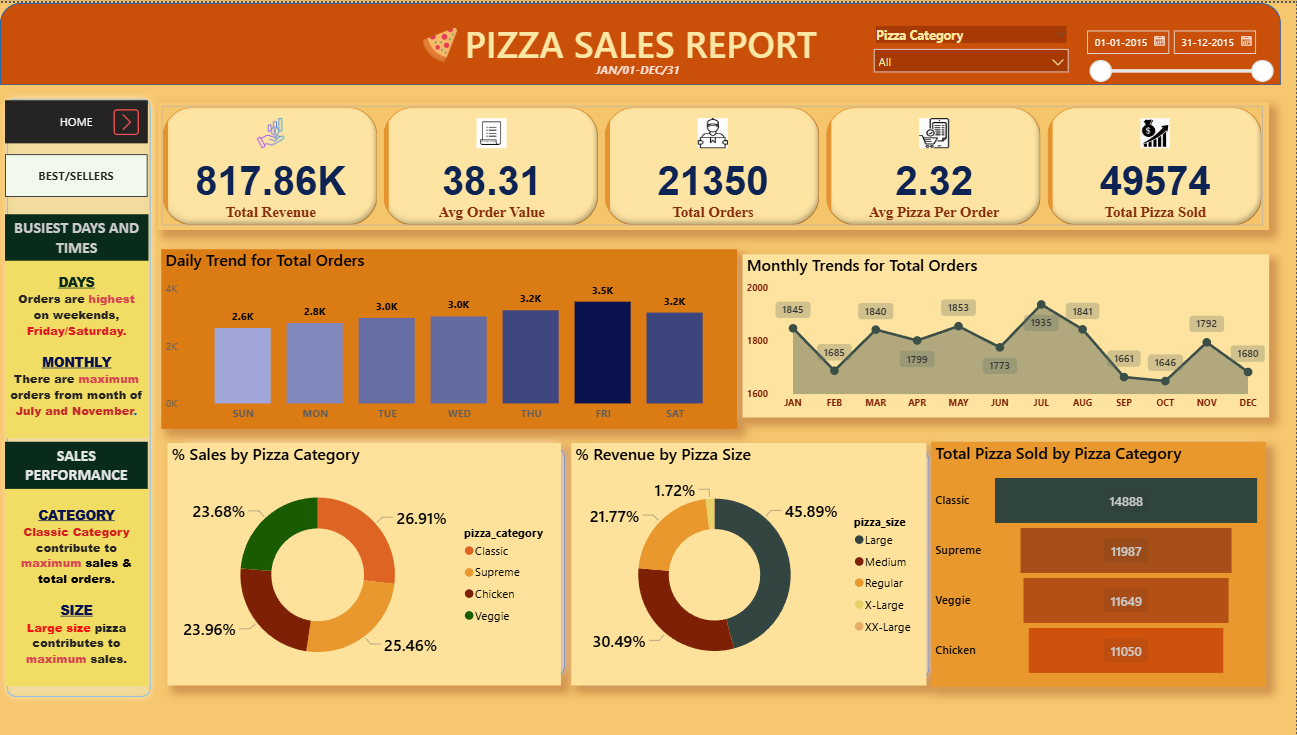

What the dashboard file says about the page in this screenshot:
{"tool":"powerbi","page":{"name":"HOME","canvas":[1519,862],"ordinal":0},"visuals":[{"type":"shape","box":[0,0,1519.6,96.6],"z":0},{"type":"shape","box":[0,103.9,207.9,736.4],"z":1000},{"type":"cardVisual","fields":{"Data":["pizza_sales.Total_Revenue","pizza_sales.Avg_Order_Value","pizza_sales.Total_Orders","pizza_sales.Avg_Pizza_Per_Order","pizza_sales.Total_pizza_sold"]},"box":[218.1,117.1,1301.5,149.3],"z":2000},{"type":"textbox","box":[346.4,12.6,807.4,102],"z":3000},{"type":"textbox","box":[692.9,64.3,114.5,32.1],"z":4000},{"type":"image","box":[480.5,23.7,69.8,51.7],"z":5000},{"type":"shape","box":[247.4,289.9,612,194.7],"z":6000},{"type":"columnChart","title":"Daily Trend for Total Orders","fields":{"Category":["pizza_sales.Order Day"],"Y":["pizza_sales.Total_Orders"]},"box":[221.1,294.3,661.7,246],"z":7000},{"type":"areaChart","title":"Monthly Trends for Total Orders","fields":{"Category":["pizza_sales.Order Month"],"Y":["pizza_sales.Total_Orders"]},"box":[901.8,295.7,617.8,244.5],"z":9000},{"type":"shape","box":[693.9,557.8,415.8,282.6],"z":10000},{"type":"shape","box":[1127.3,556.3,392.4,291.3],"z":12000},{"type":"shape","box":[207.9,557.8,450.9,282.6],"z":13000},{"type":"donutChart","title":"% Sales by Pizza Category","fields":{"Category":["pizza_sales.pizza_category"],"Y":["pizza_sales.Total_Revenue"]},"box":[207.9,556.3,461.2,284],"z":14000},{"type":"donutChart","title":"% Revenue by Pizza Size","fields":{"Category":["pizza_sales.pizza_size"],"Y":["pizza_sales.Total_Revenue"]},"box":[692.5,556.3,415.8,284],"z":15000},{"type":"funnel","title":"Total Pizza Sold by Pizza Category","fields":{"Category":["pizza_sales.pizza_category"],"Y":["pizza_sales.Total_pizza_sold"]},"box":[1127.3,556.3,392.4,286.9],"z":16000},{"type":"textbox","box":[4.4,326.5,193.2,213.7],"z":17000},{"type":"textbox","box":[4.4,270.8,193.2,55.6],"z":18000},{"type":"textbox","box":[5.9,609,191.8,231.3],"z":19000},{"type":"slicer","fields":{"Values":["pizza_sales.pizza_category"]},"box":[1030.7,22,248.9,68.8],"z":20000},{"type":"slicer","fields":{"Values":["pizza_sales.order_date"]},"box":[1281,22,238.6,84.9],"z":21000},{"type":"pageNavigator","box":[5.9,106.9,191.8,76.1],"z":22000},{"type":"pageNavigator","box":[5.9,191.8,191.8,74.7],"z":23000},{"type":"image","box":[143.5,115.7,54.2,60],"z":24000},{"type":"textbox","box":[5.9,554.9,191.8,54.2],"z":25500}]}

Visuals, with their boxes in screenshot pixels (x1, y1, x2, y2), scaled from the page's 1519x862 canvas onto the 1297x735 screenshot:
shape: {"x1": 0, "y1": 0, "x2": 1296, "y2": 82}
shape: {"x1": 0, "y1": 89, "x2": 178, "y2": 716}
cardVisual - pizza_sales.Total_Revenue x pizza_sales.Avg_Order_Value: {"x1": 186, "y1": 100, "x2": 1296, "y2": 227}
textbox: {"x1": 296, "y1": 11, "x2": 985, "y2": 98}
textbox: {"x1": 592, "y1": 55, "x2": 689, "y2": 82}
image: {"x1": 410, "y1": 20, "x2": 470, "y2": 64}
shape: {"x1": 211, "y1": 247, "x2": 734, "y2": 413}
"Daily Trend for Total Orders" columnChart: {"x1": 189, "y1": 251, "x2": 754, "y2": 461}
"Monthly Trends for Total Orders" areaChart: {"x1": 770, "y1": 252, "x2": 1296, "y2": 461}
shape: {"x1": 592, "y1": 476, "x2": 948, "y2": 717}
shape: {"x1": 963, "y1": 474, "x2": 1296, "y2": 723}
shape: {"x1": 178, "y1": 476, "x2": 563, "y2": 717}
"% Sales by Pizza Category" donutChart: {"x1": 178, "y1": 474, "x2": 571, "y2": 716}
"% Revenue by Pizza Size" donutChart: {"x1": 591, "y1": 474, "x2": 946, "y2": 716}
"Total Pizza Sold by Pizza Category" funnel: {"x1": 963, "y1": 474, "x2": 1296, "y2": 719}
textbox: {"x1": 4, "y1": 278, "x2": 169, "y2": 461}
textbox: {"x1": 4, "y1": 231, "x2": 169, "y2": 278}
textbox: {"x1": 5, "y1": 519, "x2": 169, "y2": 716}
slicer - pizza_sales.pizza_category: {"x1": 880, "y1": 19, "x2": 1093, "y2": 77}
slicer - pizza_sales.order_date: {"x1": 1094, "y1": 19, "x2": 1296, "y2": 91}
pageNavigator: {"x1": 5, "y1": 91, "x2": 169, "y2": 156}
pageNavigator: {"x1": 5, "y1": 164, "x2": 169, "y2": 227}
image: {"x1": 123, "y1": 99, "x2": 169, "y2": 150}
textbox: {"x1": 5, "y1": 473, "x2": 169, "y2": 519}
